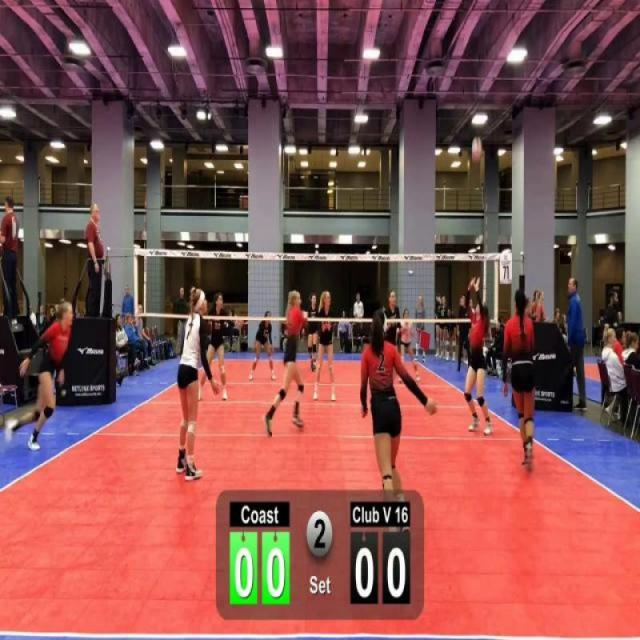volleyball: (469, 134, 485, 165)
